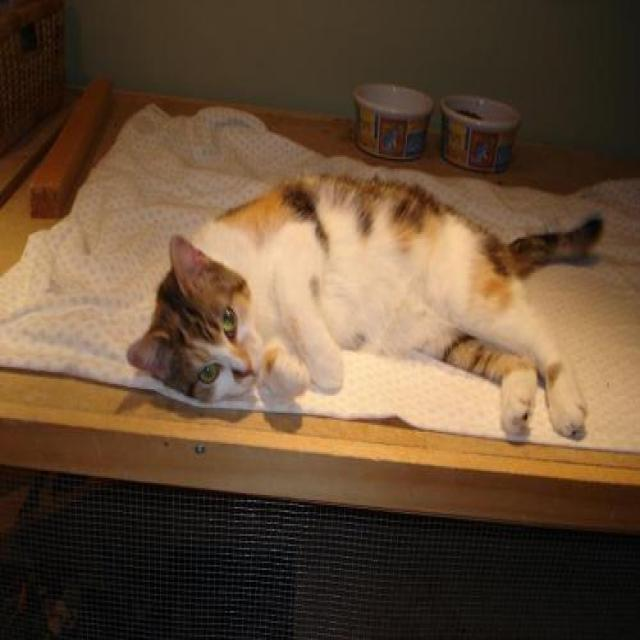Cats: (126, 169, 604, 444)
